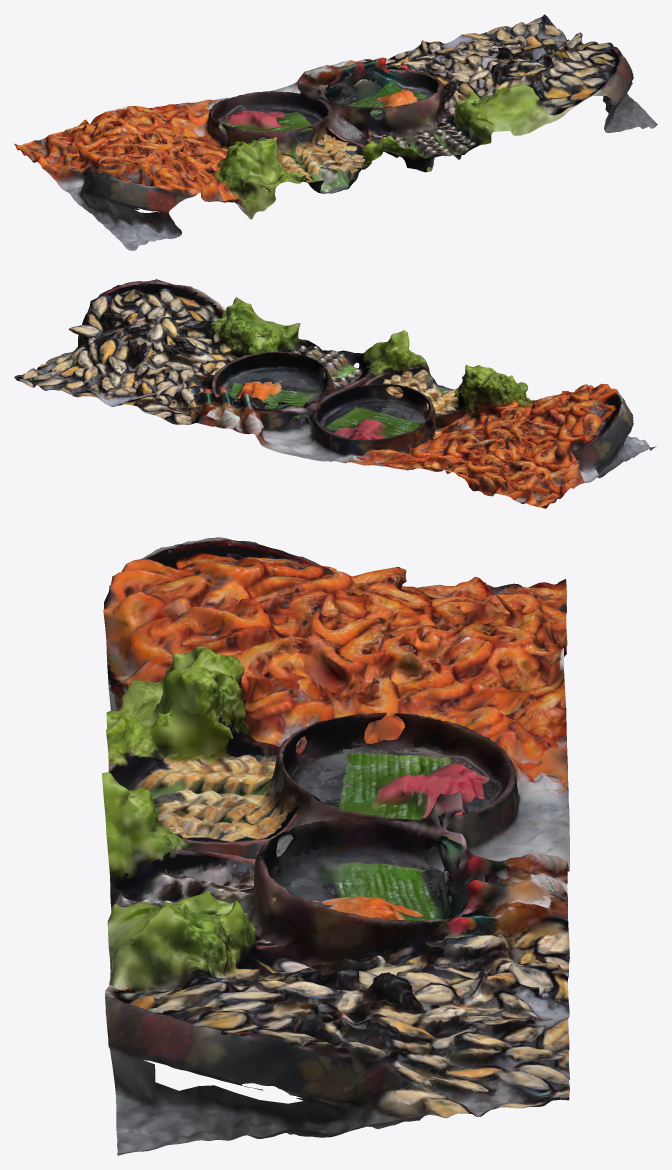
The model's file is plata-za-2.glb.
3 renders of one model, top to bottom at view 1: azimuth 30°, elevation 25°; view 2: azimuth 150°, elevation 25°; view 3: azimuth 270°, elevation 25°, orthographic. The views are drawn at different scales.
Visible parts, largest first — view 1: plata-za-2; view 2: plata-za-2; view 3: plata-za-2.
Boxes of the visible parts, bbox=[...] form: plata-za-2: bbox=[14, 14, 657, 250]; plata-za-2: bbox=[14, 279, 656, 508]; plata-za-2: bbox=[102, 537, 569, 1155].
Bounding box in the file's own units: 0.4 × 0.0465 × 0.1527.
1 material, 1 textured.
